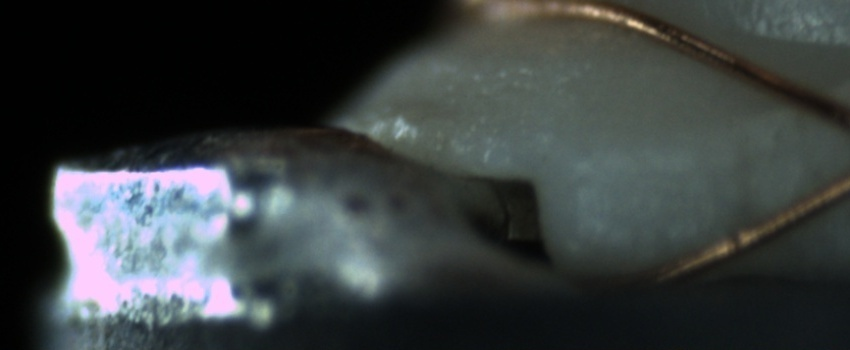DL: (578, 139, 713, 203)
